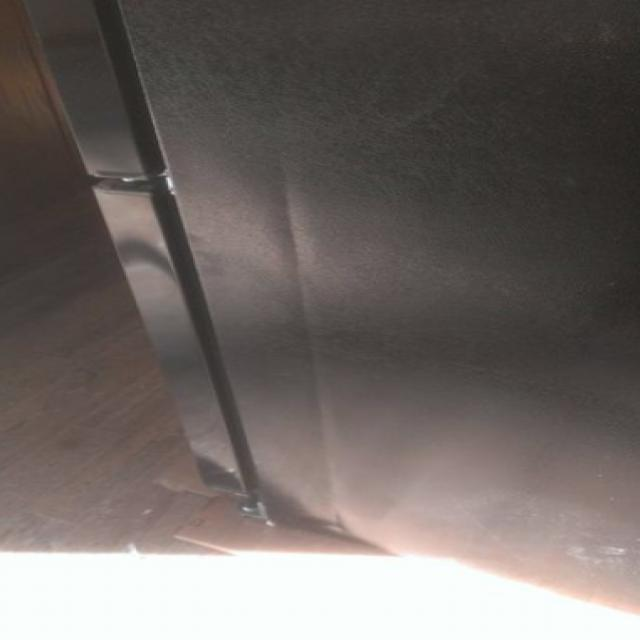dents: (266, 173, 378, 501)
